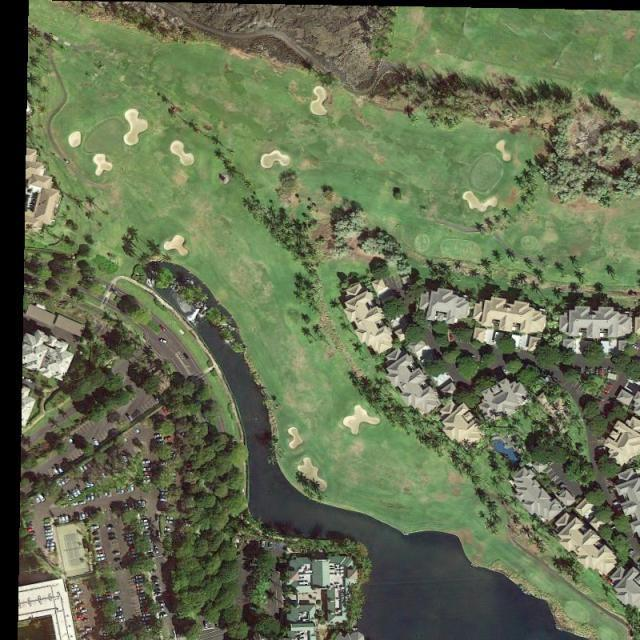vehicle: (37, 493, 47, 503), (67, 436, 75, 445), (52, 468, 61, 476), (56, 466, 65, 474), (82, 463, 90, 471), (78, 465, 86, 473), (56, 481, 64, 489), (92, 438, 100, 446), (34, 496, 42, 504), (627, 549, 635, 557), (502, 366, 510, 374), (62, 477, 70, 485), (72, 490, 79, 498), (122, 454, 129, 462), (75, 488, 82, 496), (127, 414, 134, 422), (613, 500, 621, 507), (602, 388, 610, 395), (632, 344, 640, 351), (110, 287, 118, 294), (61, 504, 70, 510), (70, 584, 79, 590), (143, 479, 153, 484), (70, 588, 80, 593), (134, 427, 141, 434), (66, 475, 73, 482), (85, 481, 91, 489), (78, 486, 84, 494), (124, 504, 130, 512), (60, 478, 66, 486), (184, 353, 190, 361), (160, 325, 166, 333), (98, 604, 106, 610), (134, 578, 146, 582), (144, 539, 152, 545), (162, 406, 168, 414), (117, 486, 122, 495), (130, 483, 135, 492), (96, 597, 105, 602), (134, 575, 145, 579), (558, 483, 565, 489), (166, 516, 174, 521), (135, 502, 140, 510), (131, 502, 136, 510), (46, 532, 54, 537), (26, 524, 34, 529), (32, 534, 37, 542), (126, 533, 134, 538), (165, 437, 173, 442), (26, 378, 34, 383), (142, 467, 152, 471), (70, 502, 78, 507), (78, 501, 86, 506), (90, 494, 95, 502), (161, 488, 169, 493), (160, 494, 168, 499), (58, 517, 63, 525), (65, 515, 70, 523), (250, 606, 258, 611), (142, 607, 150, 612), (110, 617, 118, 622), (109, 613, 117, 618), (106, 595, 114, 600), (114, 590, 122, 595), (141, 604, 149, 609), (154, 588, 162, 593), (118, 618, 126, 623), (98, 557, 106, 562), (94, 546, 102, 551), (74, 600, 82, 605), (606, 382, 614, 387), (47, 547, 56, 551), (142, 461, 151, 465), (143, 475, 152, 479), (104, 488, 108, 497), (97, 550, 106, 554), (76, 590, 85, 594), (165, 527, 172, 532), (127, 537, 134, 542), (161, 339, 168, 344), (116, 611, 123, 616), (140, 596, 147, 601), (94, 531, 101, 536), (93, 525, 100, 530), (86, 512, 91, 519), (129, 541, 136, 546), (81, 630, 88, 635), (76, 606, 83, 611), (166, 520, 174, 524), (170, 479, 178, 483), (90, 478, 94, 486), (138, 502, 142, 510), (47, 539, 55, 543), (62, 517, 66, 525), (160, 462, 168, 466), (156, 393, 160, 401), (87, 494, 91, 502), (127, 484, 131, 492), (160, 498, 168, 502), (144, 614, 152, 618), (143, 617, 151, 621), (144, 621, 152, 625), (104, 633, 112, 637), (96, 594, 104, 598), (106, 592, 114, 596), (140, 600, 148, 604), (138, 590, 146, 594), (158, 603, 166, 607), (158, 608, 166, 612), (161, 614, 169, 618), (138, 586, 146, 590), (79, 513, 83, 521), (142, 526, 150, 530), (142, 523, 150, 527), (141, 519, 149, 523), (109, 534, 117, 538), (114, 552, 122, 556), (98, 554, 106, 558), (131, 550, 139, 554), (73, 594, 81, 598), (270, 542, 274, 550), (114, 558, 122, 562), (82, 618, 90, 622), (143, 472, 153, 475), (205, 622, 209, 629), (158, 531, 162, 538), (47, 536, 54, 540), (45, 526, 52, 530), (129, 504, 133, 511), (28, 528, 35, 532), (155, 547, 159, 554), (158, 442, 165, 446), (155, 434, 162, 438), (104, 630, 111, 634), (118, 615, 125, 619), (94, 539, 101, 543), (86, 627, 93, 631), (81, 610, 88, 614), (262, 541, 266, 548), (147, 552, 154, 556), (599, 369, 603, 376), (151, 577, 158, 581), (47, 544, 56, 547), (137, 583, 146, 586), (143, 501, 146, 509), (169, 473, 177, 476), (44, 523, 52, 526), (158, 438, 164, 442), (144, 625, 152, 628), (105, 637, 113, 640), (156, 598, 164, 601), (116, 608, 122, 612), (108, 527, 116, 530), (82, 514, 86, 520), (132, 554, 138, 558), (146, 550, 154, 553), (598, 447, 606, 450), (170, 476, 177, 479), (45, 530, 52, 533), (122, 488, 125, 495), (162, 492, 169, 495), (146, 628, 153, 631), (152, 582, 159, 585), (131, 548, 138, 551), (598, 437, 605, 440), (596, 369, 599, 376), (156, 517, 160, 522), (144, 533, 150, 536), (110, 538, 118, 540), (82, 638, 90, 640), (155, 594, 162, 596), (638, 559, 640, 566)
